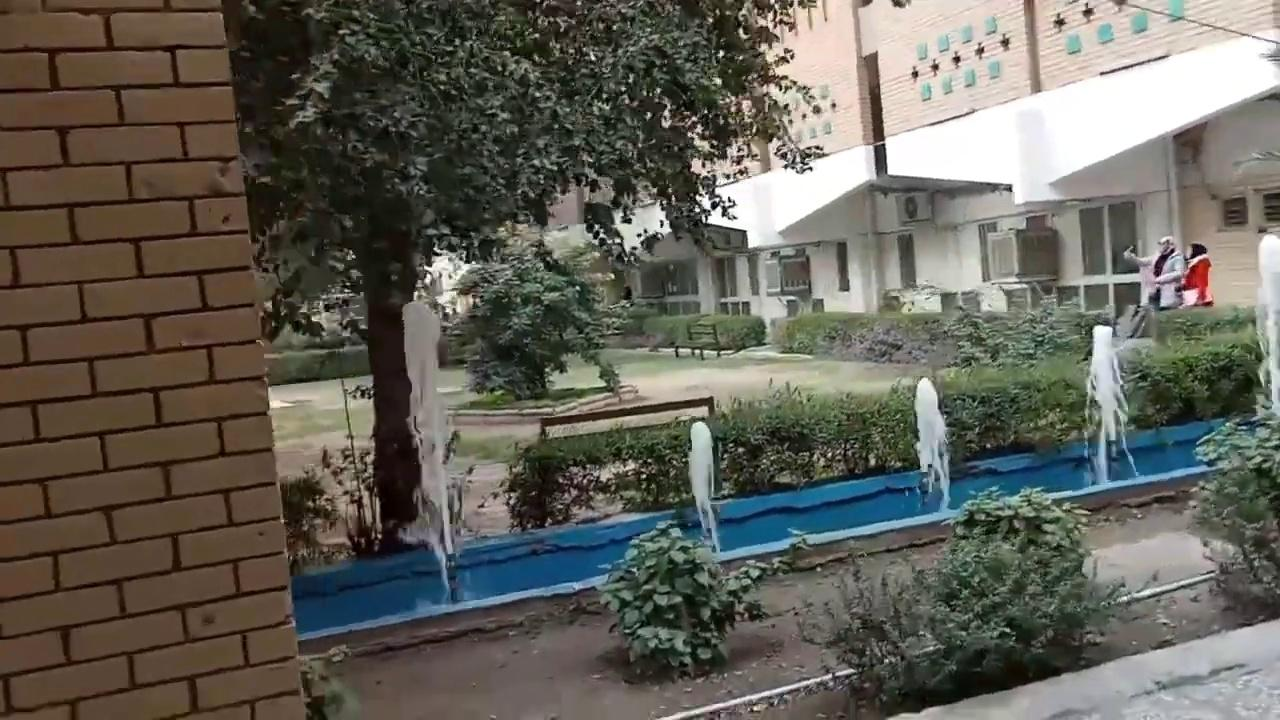fountain: (278, 234, 1277, 640), (399, 299, 460, 600), (1080, 322, 1138, 485), (911, 375, 951, 502), (685, 418, 721, 553), (1253, 232, 1278, 418)
person: (1123, 235, 1186, 310), (1177, 242, 1214, 307)
tree: (228, 0, 834, 547), (447, 242, 628, 401), (595, 519, 767, 676), (1188, 409, 1278, 617)
